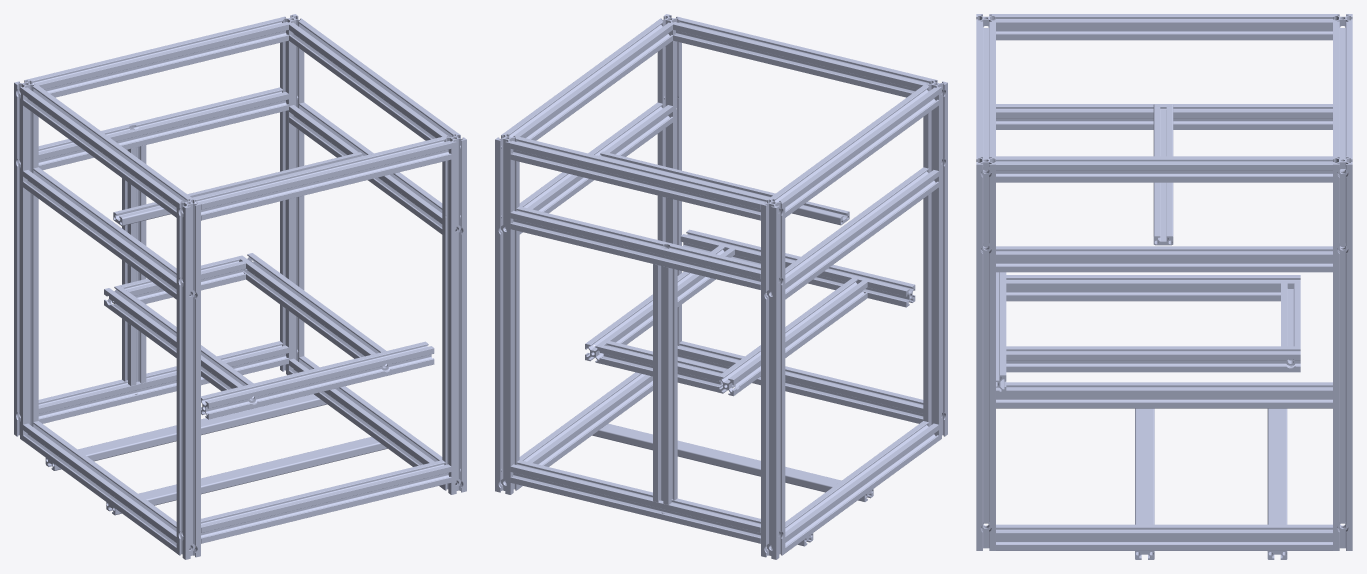
File: TXL-TXL-TT235-M5.glb
The picture shows the model from 3 angles, left to right: view 1: azimuth 30°, elevation 25°; view 2: azimuth 150°, elevation 25°; view 3: azimuth 270°, elevation 25°; orthographic projection. The views are drawn at different scales.
Visible parts, largest first — view 1: NAUO1; view 2: NAUO1; view 3: NAUO1.
Part boxes in pixels (bbox=[...]): NAUO1: bbox=[14, 14, 466, 559]; NAUO1: bbox=[495, 14, 947, 559]; NAUO1: bbox=[976, 14, 1352, 559].
Size of the model in its own units: 0.36 by 0.4412 by 0.38.
